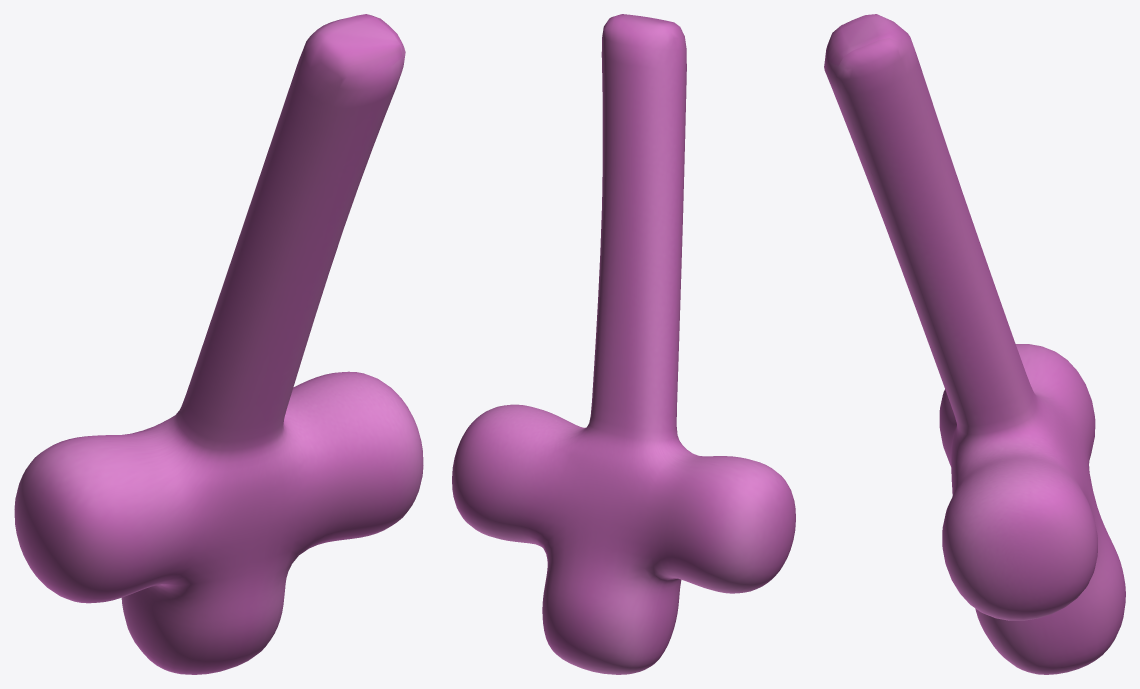
The model's file is manoDer.obj.
The picture shows the model from 3 angles, left to right: view 1: azimuth 30°, elevation 25°; view 2: azimuth 150°, elevation 25°; view 3: azimuth 270°, elevation 25°; orthographic projection. The views are drawn at different scales.
Visible parts, largest first — view 1: courage.002; view 2: courage.002; view 3: courage.002.
Boxes of the visible parts, x1,y1,x2,y2 form: courage.002: [14, 14, 423, 674]; courage.002: [452, 14, 795, 674]; courage.002: [824, 14, 1125, 674].
Size of the model in its own units: 0.8721 by 1.54 by 0.6331.
